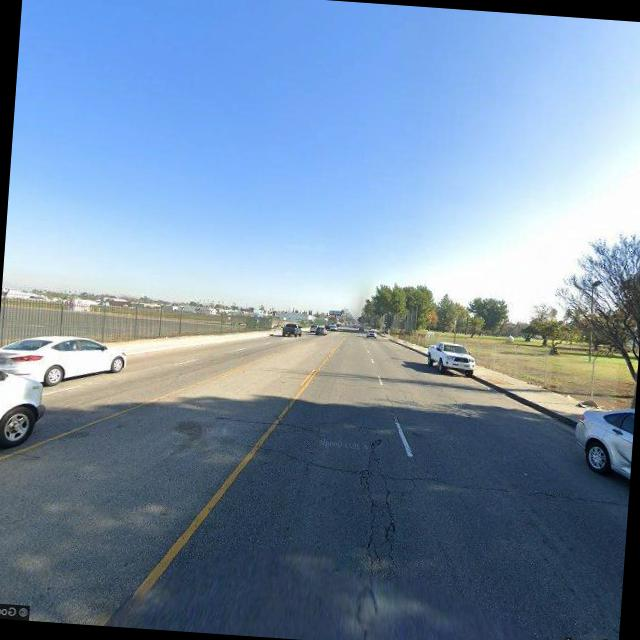crack: (244, 440, 630, 509), (350, 412, 400, 632), (208, 406, 328, 440)
